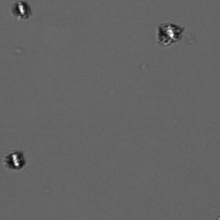Living Cell: (155, 18, 187, 46), (4, 149, 26, 170), (11, 1, 32, 20)
